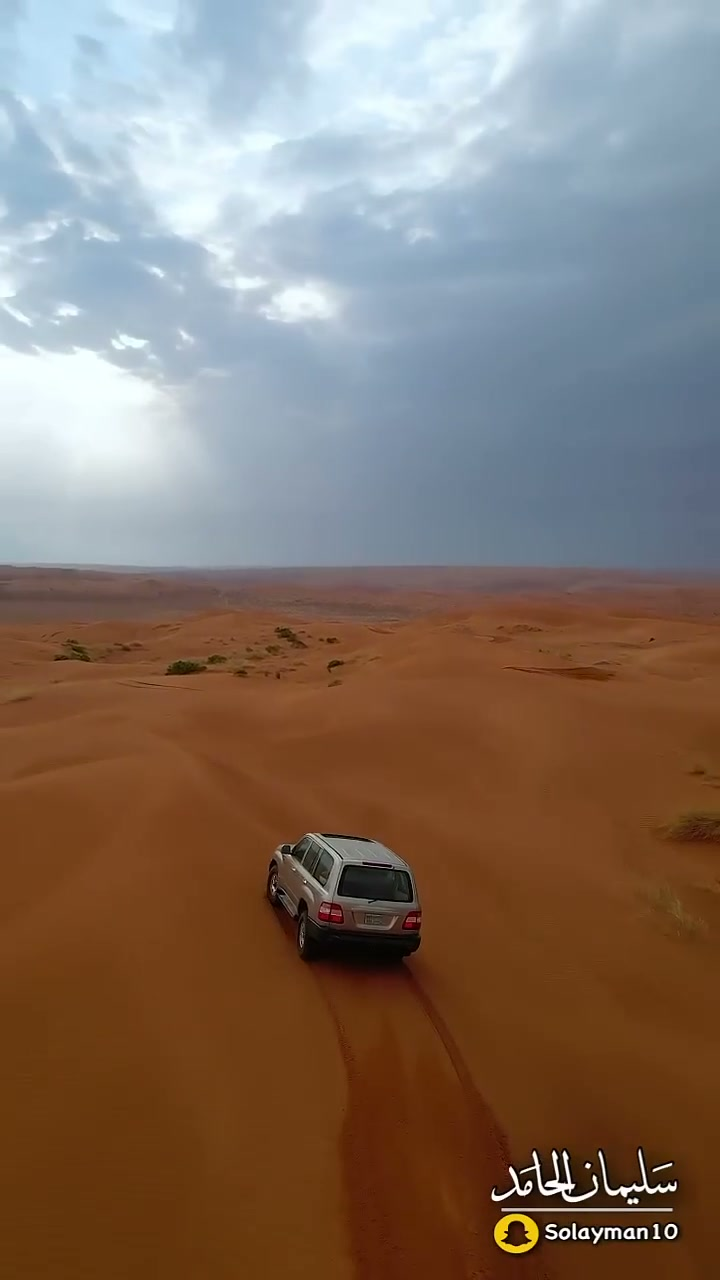vehicle_track: (318, 964, 548, 1279)
